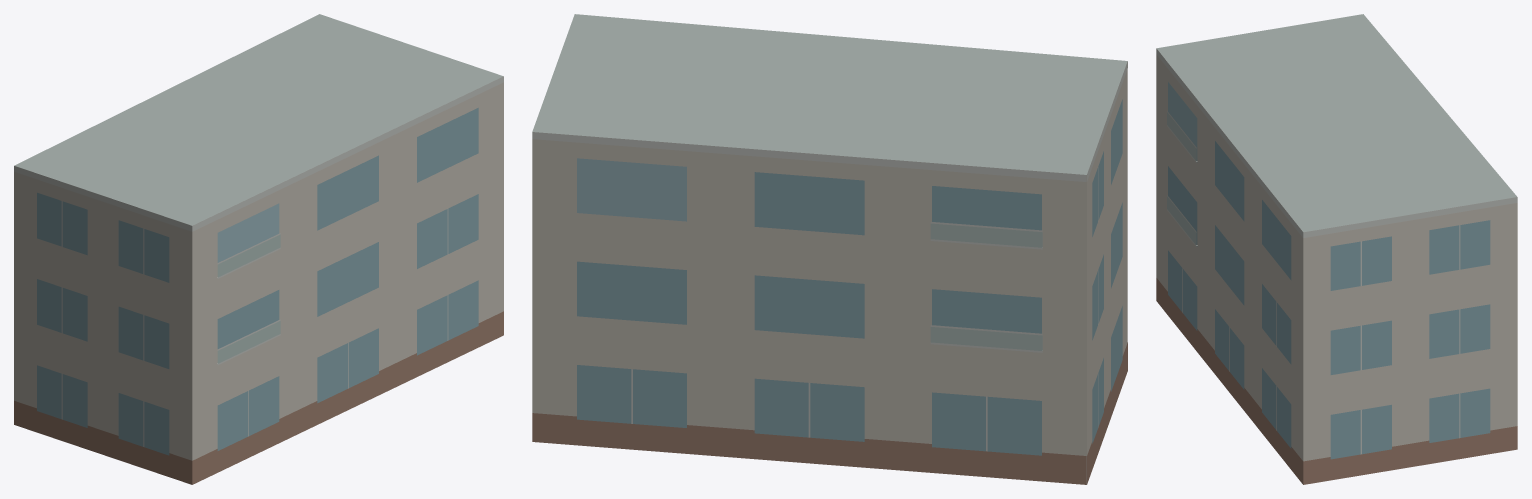
The model's file is survey-upis-32721258.glb.
3 renders of one model, left to right at view 1: azimuth 30°, elevation 25°; view 2: azimuth 150°, elevation 25°; view 3: azimuth 270°, elevation 25°, orthographic. The views are drawn at different scales.
Visible parts, largest first — view 1: survey-upis-32721258.tmp; view 2: survey-upis-32721258.tmp; view 3: survey-upis-32721258.tmp.
Boxes of the visible parts, x1,y1,x2,y2 form: survey-upis-32721258.tmp: [14, 14, 503, 484]; survey-upis-32721258.tmp: [532, 14, 1127, 484]; survey-upis-32721258.tmp: [1156, 14, 1517, 484].
Size of the model in its own units: 19.57 by 10.55 by 13.68.
